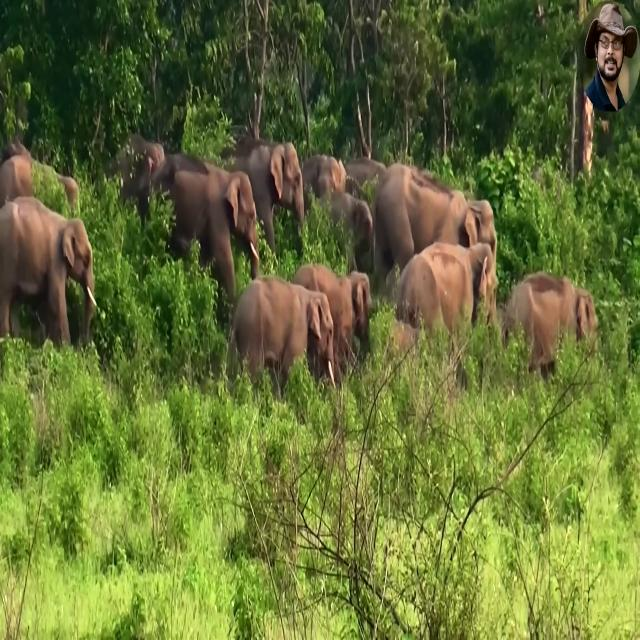Elephant: (150, 164, 259, 315), (0, 195, 97, 351), (226, 274, 336, 402), (500, 270, 598, 382), (219, 135, 304, 257), (291, 262, 372, 386), (0, 139, 79, 211)
